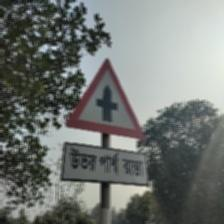Crossroad: (62, 58, 146, 188)
